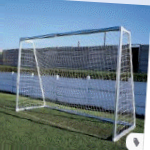goals: (13, 25, 137, 144)
